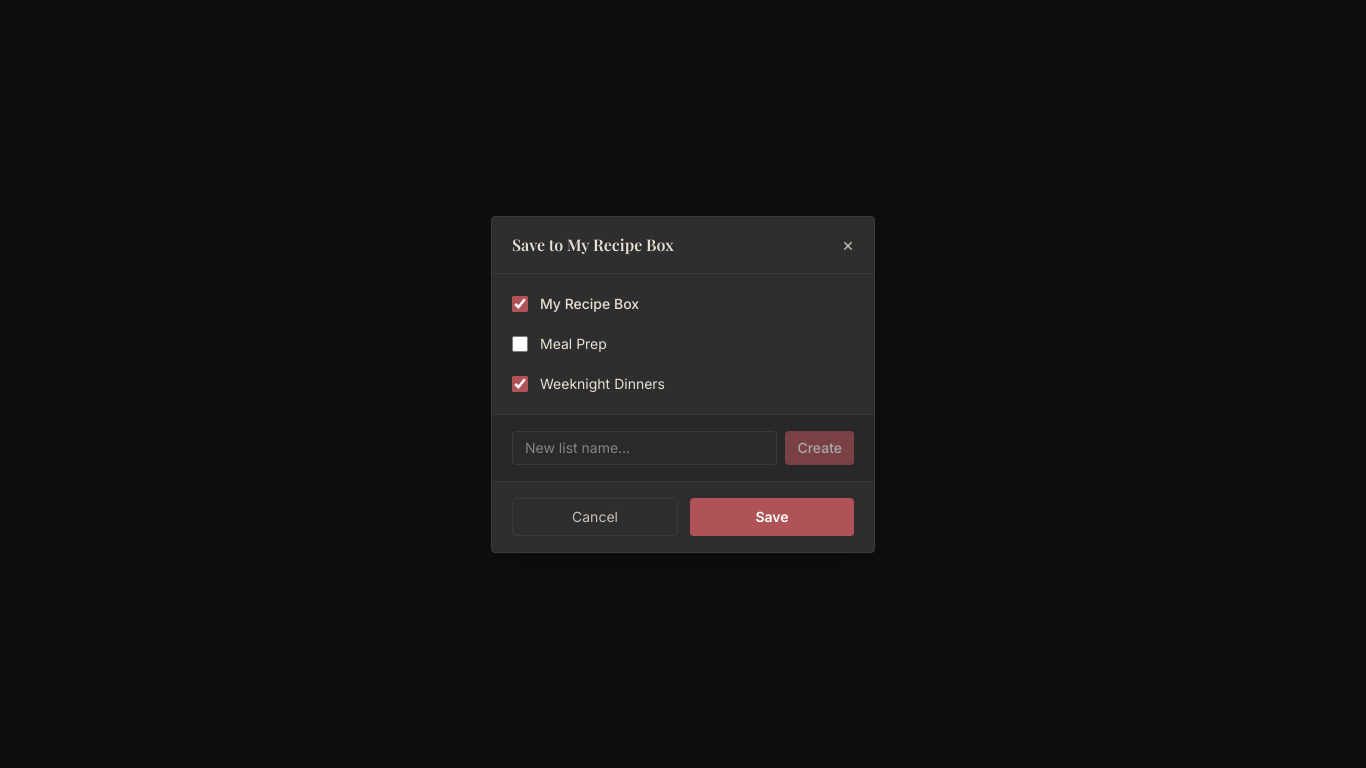
Test: SaveToBoxModal › unchecking liked clears sub-boxes
The image size is (1366, 768).
Click the checkbox labelled "My Recipe Box".
click(520, 304)  # box [512,296,528,312]
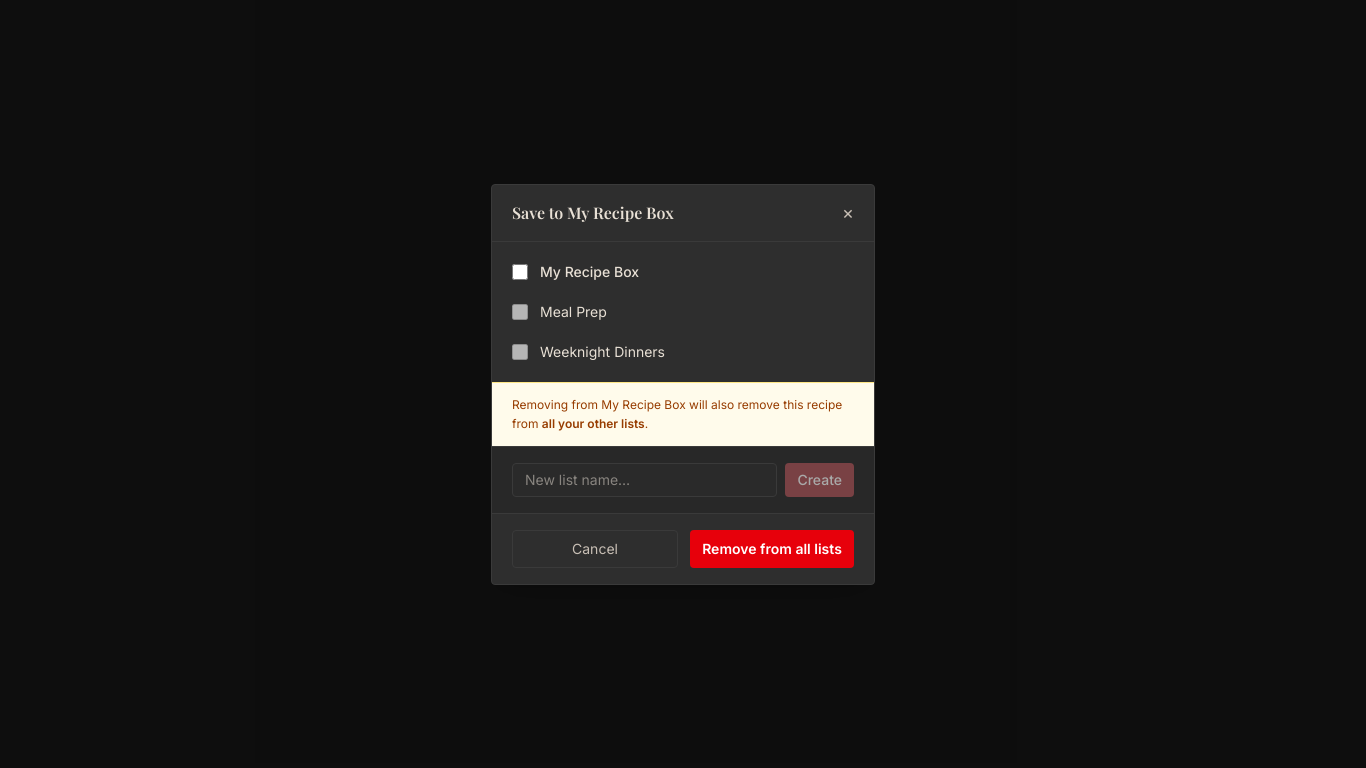
Expected: the checkbox labelled "Weeknight Dinners" is not checked, [512,344,528,360]
Expected: the checkbox labelled "Weeknight Dinners" is disabled, [512,344,528,360]
